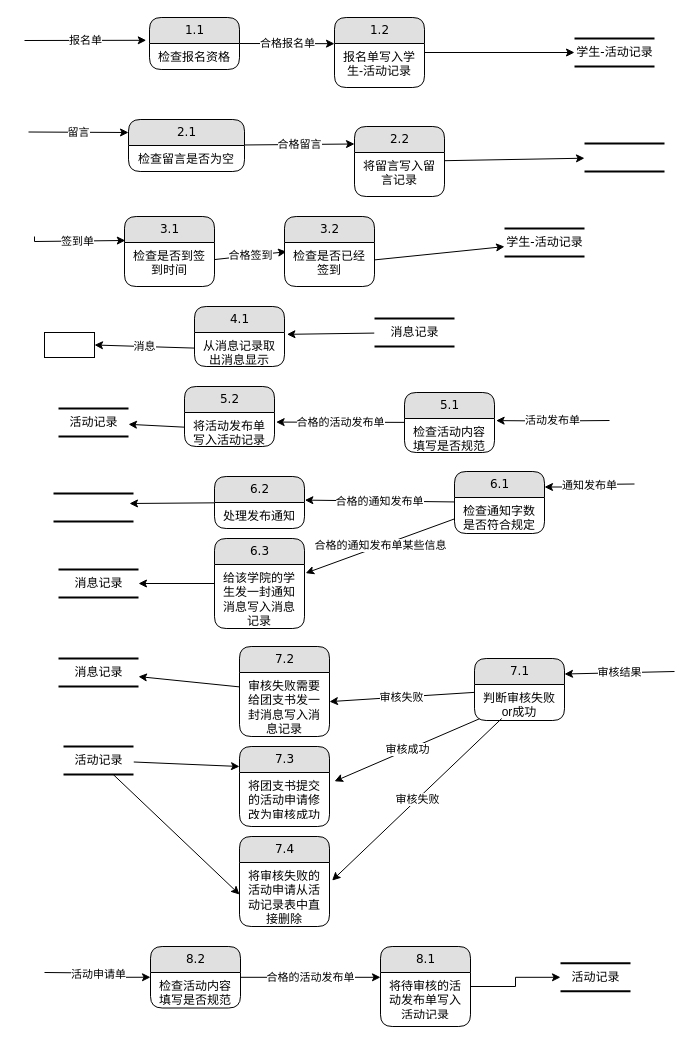
Some shapes in this 700 by 1044 pixel diagram are drawn without their labels. Each missing label, with the centre of its shape:
学生: (x=69, y=345)
留言记录: (x=624, y=157)
通知记录: (x=93, y=507)
